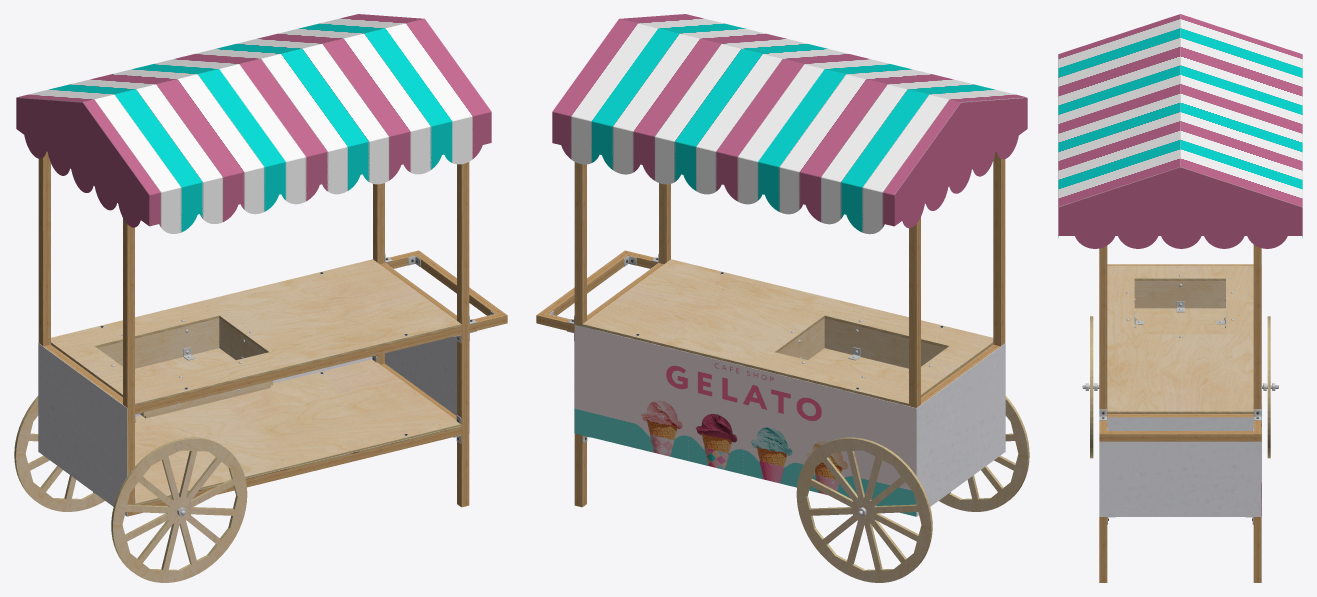
3 views of the same model, side by side, from view 1: azimuth 30°, elevation 25°; view 2: azimuth 150°, elevation 25°; view 3: azimuth 270°, elevation 25° (orthographic). The views are drawn at different scales.
Parts seen in each view (by area): view 1: Плоскость.037, STOL.013, STOL.014, KOLESO.015, Плоскость.042, Плоскость.035, Плоскость.036, Куб.350, Плоскость.041, Куб.369, Куб.352, Куб.354 (+8 smaller); view 2: Плоскость.036, Плоскость.032, STOL.013, KOLESO.016, Плоскость.042, Плоскость.035, Плоскость.037, Куб.355, Куб.218, KOLESO.015, Куб.354, Куб.359 (+4 smaller); view 3: Плоскость.036, Плоскость.037, STOL.013, Плоскость.041, Плоскость.033, Куб.219, Куб.221, Куб.350, Куб.355, Куб.343, Куб.348, KOLESO.015 (+1 smaller).
Boxes of the visible parts, <box> form: Плоскость.037: <box>83,19,491,233</box>; STOL.013: <box>51,259,461,405</box>; STOL.014: <box>135,359,461,504</box>; KOLESO.015: <box>111,437,247,582</box>; Плоскость.042: <box>38,343,127,516</box>; Плоскость.035: <box>16,98,149,227</box>; Плоскость.036: <box>16,14,424,102</box>; Куб.350: <box>457,162,469,507</box>; Плоскость.041: <box>385,263,469,432</box>; Куб.369: <box>97,318,219,368</box>; Куб.352: <box>135,326,461,414</box>; Куб.354: <box>123,218,134,516</box>; Плоскость.036: <box>552,19,960,234</box>; Плоскость.032: <box>574,325,916,516</box>; STOL.013: <box>582,259,993,405</box>; KOLESO.016: <box>796,437,932,582</box>; Плоскость.042: <box>916,343,1005,516</box>; Плоскость.035: <box>894,98,1027,228</box>; Плоскость.037: <box>619,14,1027,102</box>; Куб.355: <box>574,162,586,507</box>; Куб.218: <box>824,318,946,368</box>; KOLESO.015: <box>939,396,1029,511</box>; Куб.354: <box>993,152,1005,346</box>; Куб.359: <box>909,217,920,407</box>; Плоскость.036: <box>1180,14,1302,237</box>; Плоскость.037: <box>1058,14,1180,237</box>; STOL.013: <box>1107,265,1253,413</box>; Плоскость.041: <box>1099,417,1261,516</box>; Плоскость.033: <box>1058,167,1302,248</box>; Куб.219: <box>1134,280,1225,308</box>; Куб.221: <box>1134,308,1225,334</box>; Куб.350: <box>1099,246,1107,582</box>; Куб.355: <box>1253,245,1261,582</box>; Куб.343: <box>1107,431,1253,441</box>; Куб.348: <box>1107,414,1253,417</box>; KOLESO.015: <box>1090,316,1093,458</box>.
Size of the model in its own units: 2.08 by 2.26 by 1.2.
